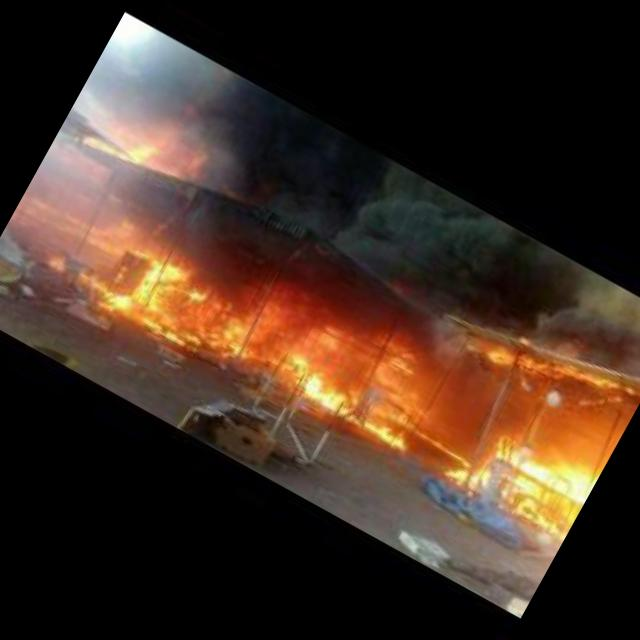fire: (52, 175, 450, 462), (452, 409, 602, 543)
